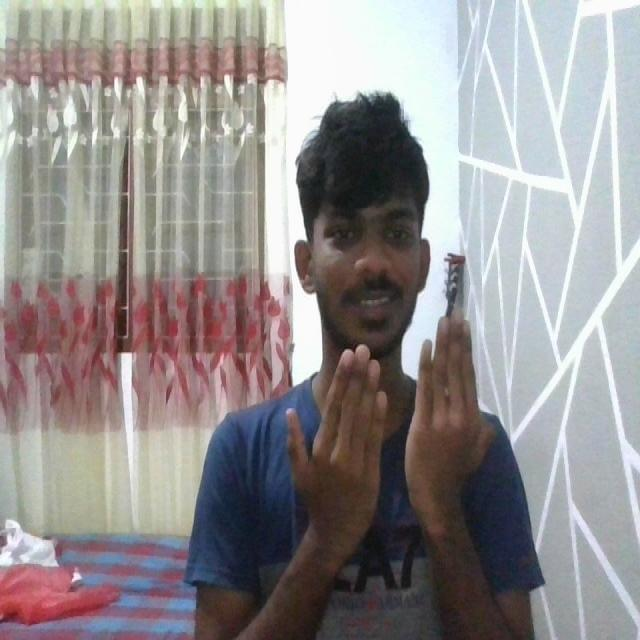ThankYou: (189, 311, 566, 640)
